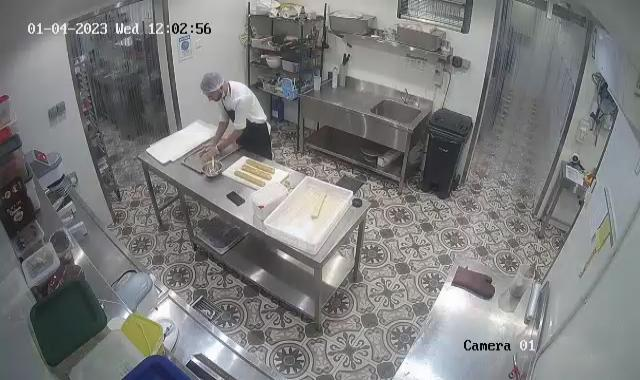hairnet: (200, 70, 228, 97)
